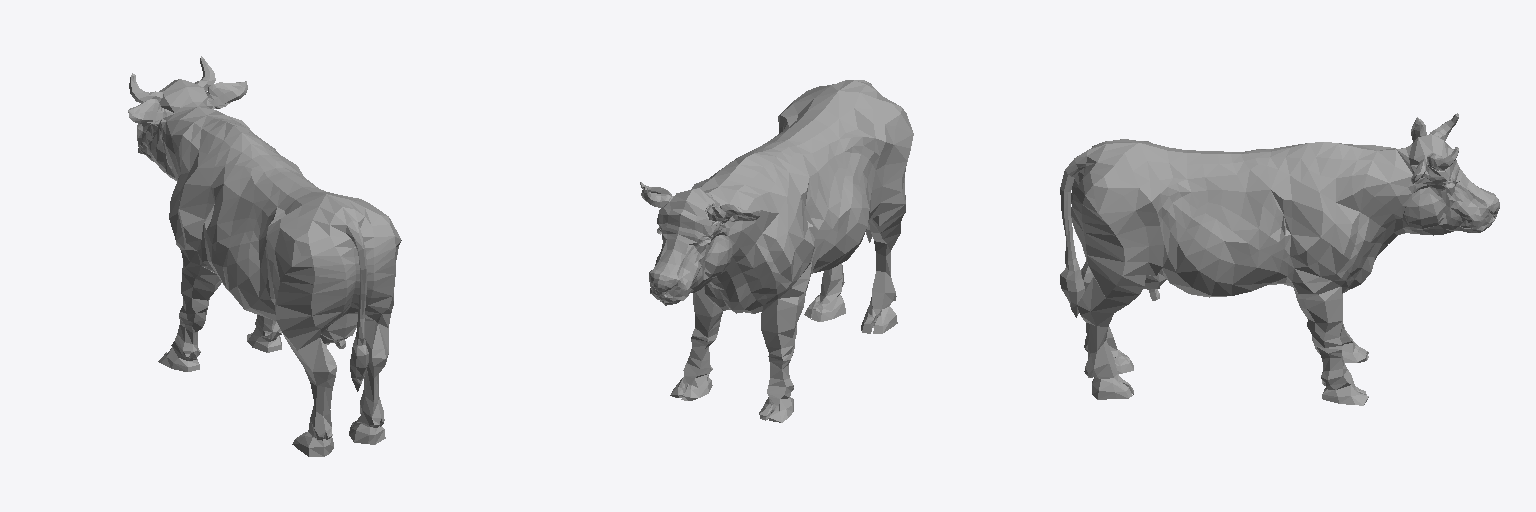
The model's file is cowTM08New00RTime02-tri.obj.
3 views of the same model, side by side, from view 1: azimuth 30°, elevation 25°; view 2: azimuth 150°, elevation 25°; view 3: azimuth 270°, elevation 25° (orthographic).
Size of the model in its own units: 3.07 by 6.22 by 9.84.